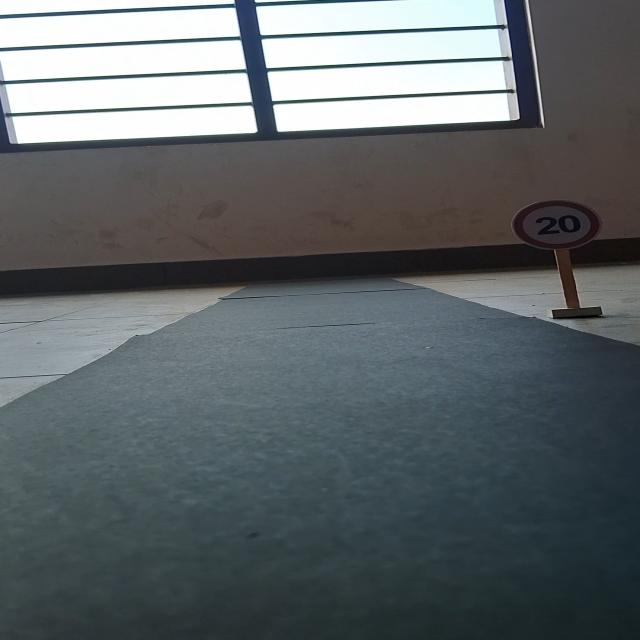Speed20: (507, 195, 609, 252)
